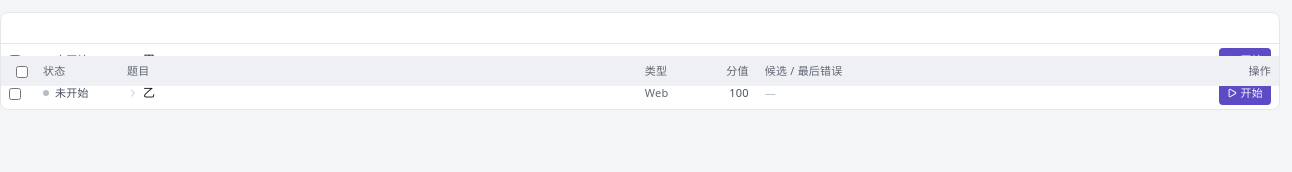
Test: ChallengeBoard：批量开始 / 停止（第 3 步） › 全选按钮再点一次取消全选
This screenshot has width=1292, height=172.
Click the checkbox named "选择当前列表里的全部题目" at (22, 72), box x1=16 y1=66 x2=28 y2=78
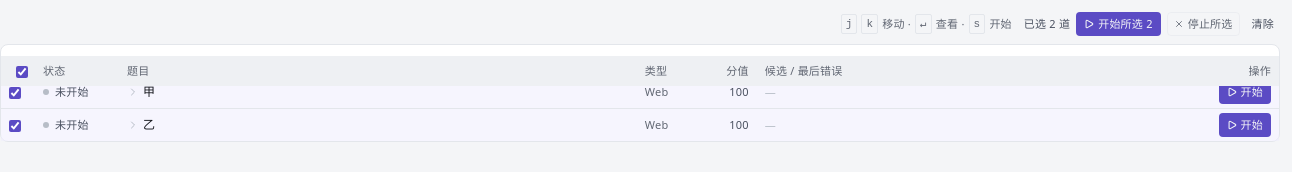
Result: the text "已选 2 道" is shown at x1=1024 y1=15 x2=1070 y2=33
Click the checkbox named "选择当前列表里的全部题目" at (22, 72), box x1=16 y1=66 x2=28 y2=78
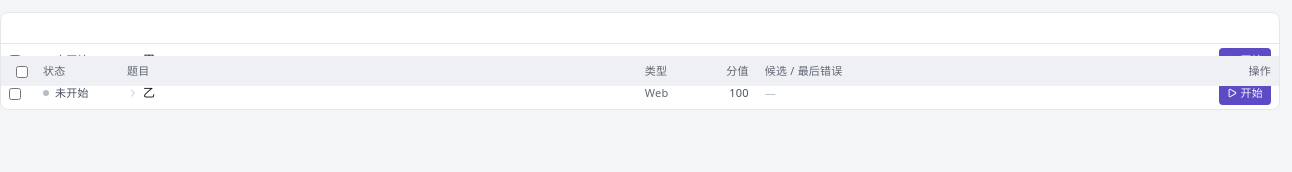
Result: the text "已选" is gone
